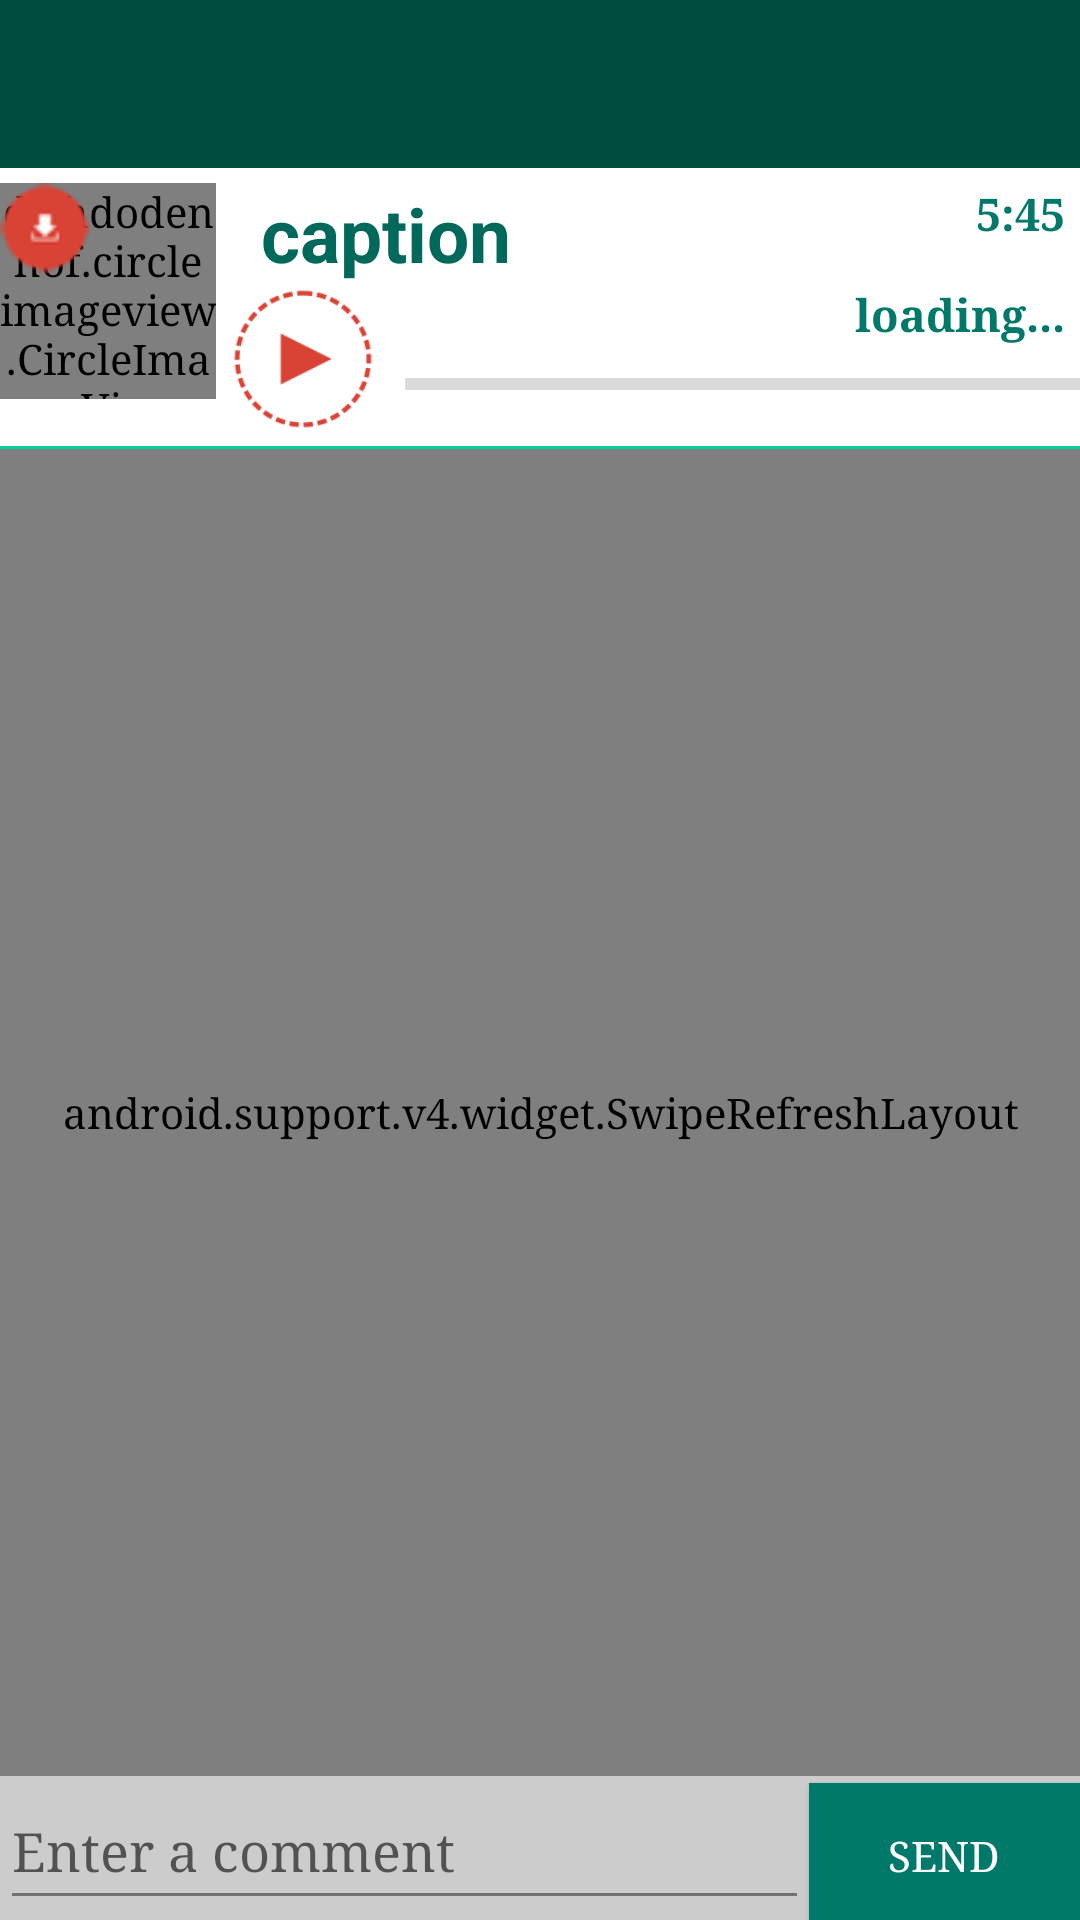

Named icons in this screenshot (1080×1920) and their centers, (x,y):
cloud down: (45,228)
play: (303,359)
